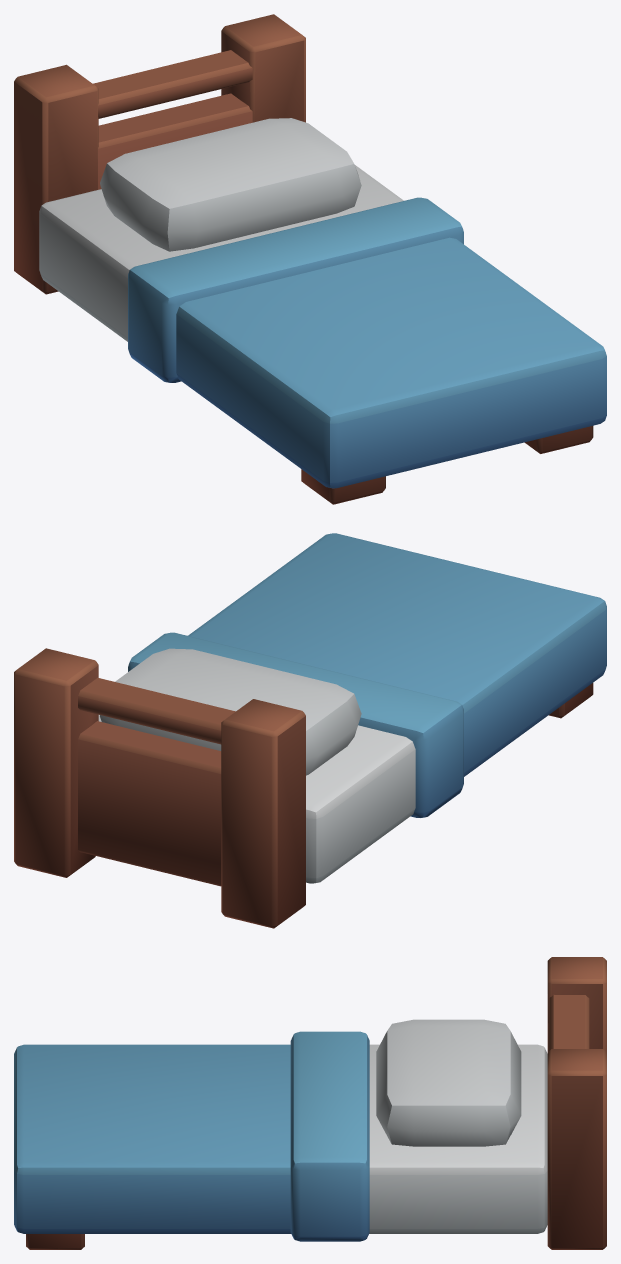
File: K_bed_single_A.glb
3 views of the same model, one above another, from view 1: azimuth 30°, elevation 25°; view 2: azimuth 150°, elevation 25°; view 3: azimuth 270°, elevation 25° (orthographic). The views are drawn at different scales.
Visible parts, largest first — view 1: bed_single_A; view 2: bed_single_A; view 3: bed_single_A.
Boxes of the visible parts, box(x1,y1,x2,y2) form: bed_single_A: box(14, 14, 606, 504); bed_single_A: box(14, 533, 606, 928); bed_single_A: box(14, 957, 606, 1249).
Bounding box in the file's own units: 1.6 × 1 × 3.
